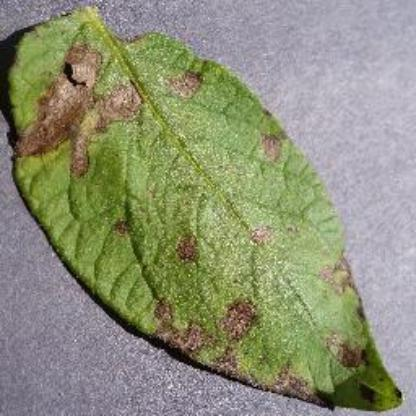Early-Blight: (6, 5, 402, 410)
